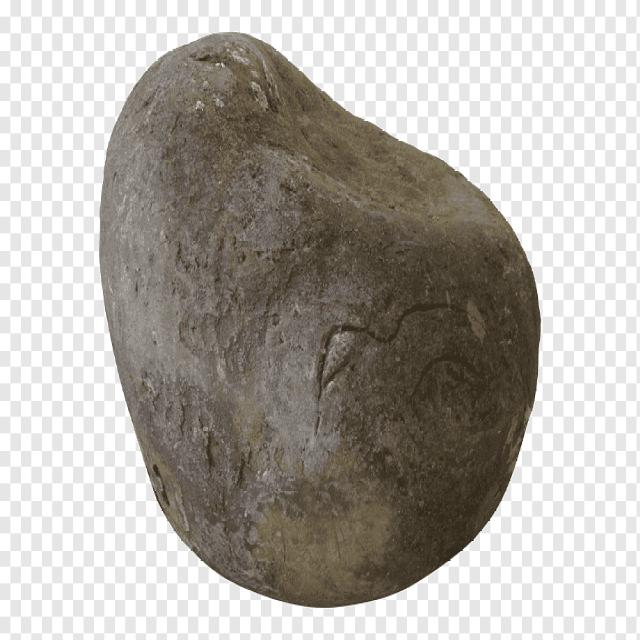Pecahan Agregat: (83, 12, 580, 615)
